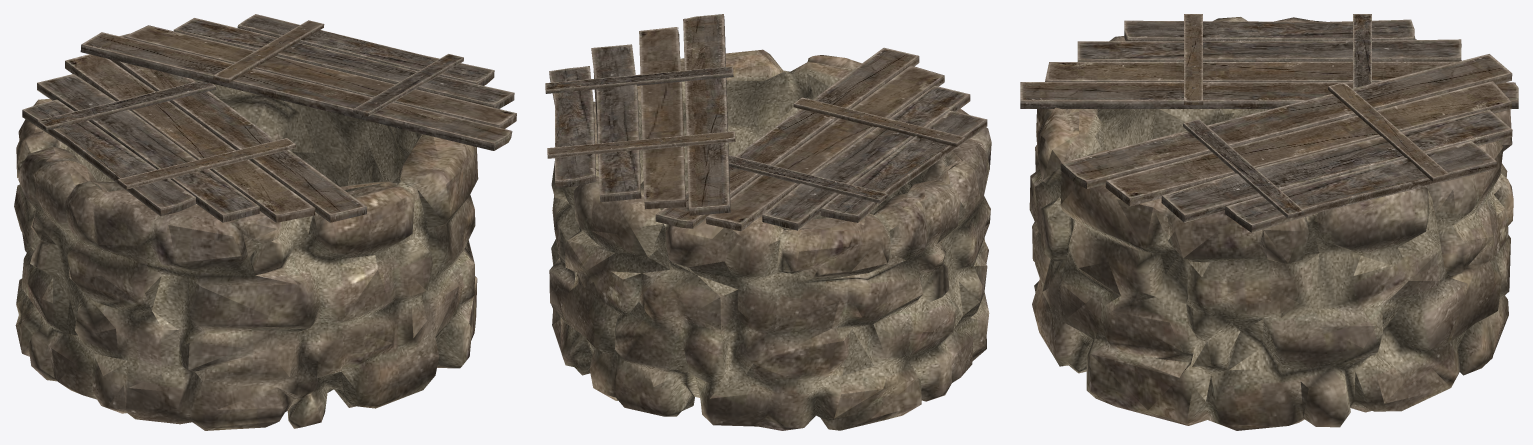
The model's file is b13_oasis_well.glb.
3 views of the same model, side by side, from view 1: azimuth 30°, elevation 25°; view 2: azimuth 150°, elevation 25°; view 3: azimuth 270°, elevation 25° (orthographic). The views are drawn at different scales.
Parts seen in each view (by area): view 1: b13_oasis_well; view 2: b13_oasis_well; view 3: b13_oasis_well.
Boxes of the visible parts, <box> form: b13_oasis_well: <box>14,14,516,430</box>; b13_oasis_well: <box>545,14,991,430</box>; b13_oasis_well: <box>1020,14,1518,430</box>.
Bounding box in the file's own units: 1 × 0.5304 × 0.9394.
2 materials, 2 textured.
